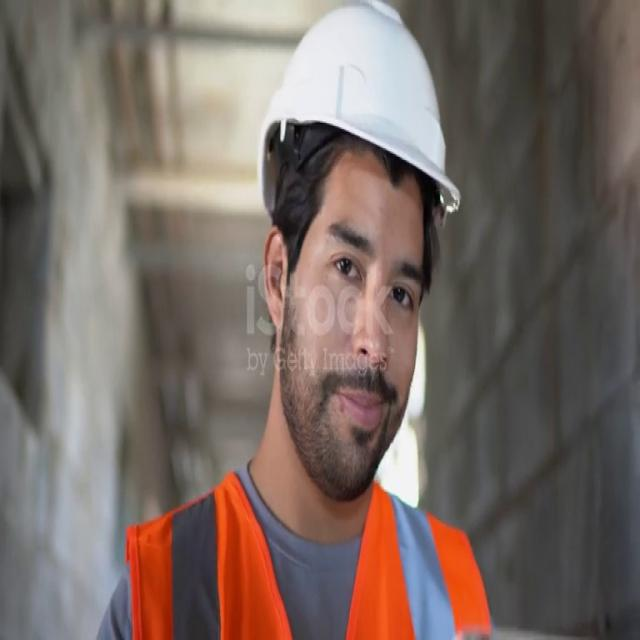capacete: (243, 4, 471, 233)
